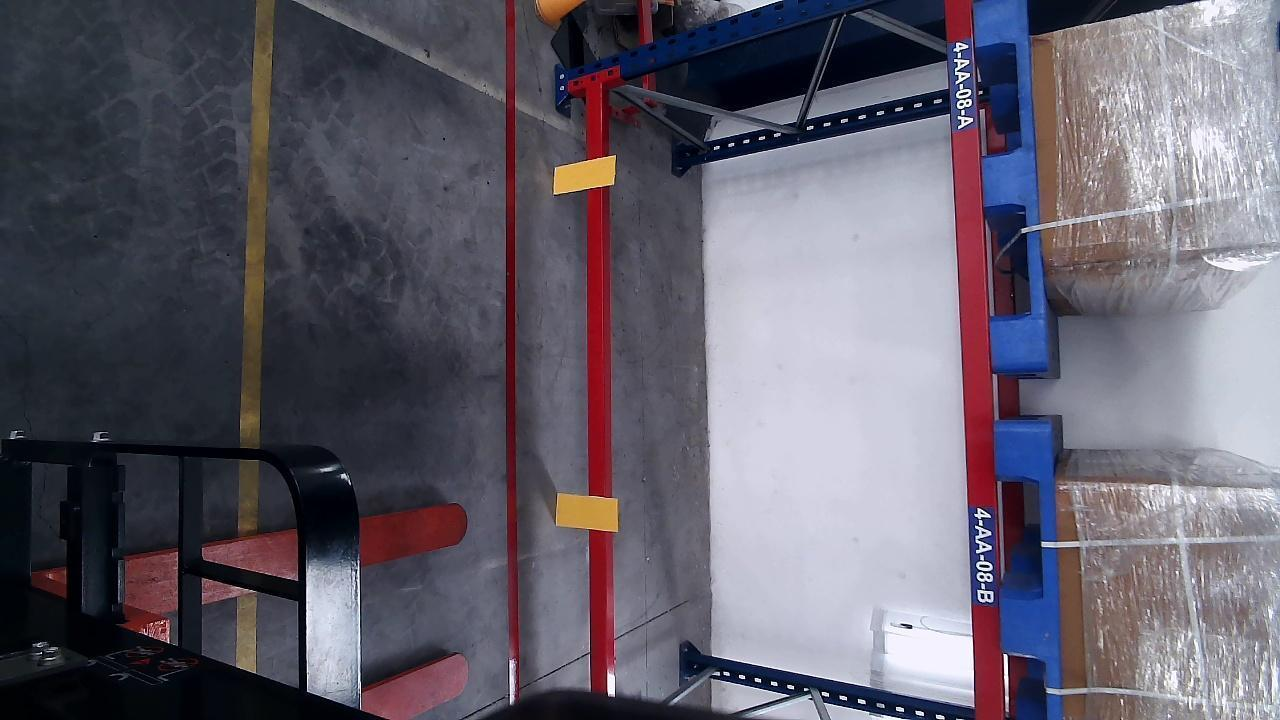red_line: (504, 1, 521, 704)
yellow_line: (241, 0, 276, 445)
